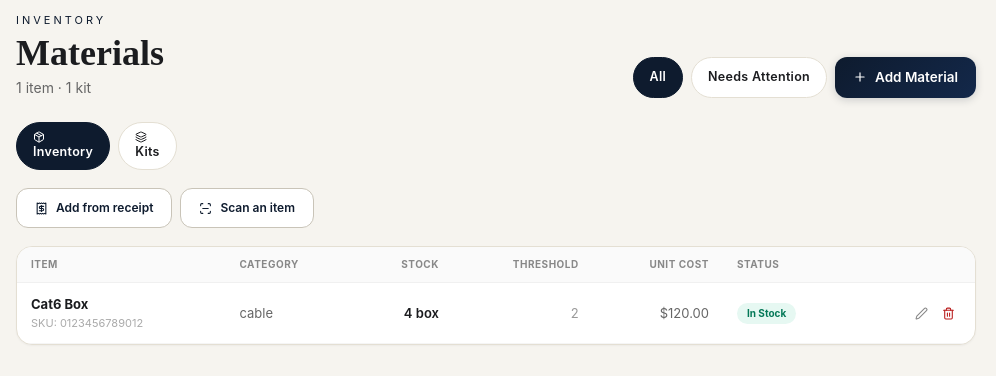
Test: Materials screen › switches to Kits and shows what is in one, priced
Click the button "Kits".
click(148, 146)  # box [118, 122, 177, 170]
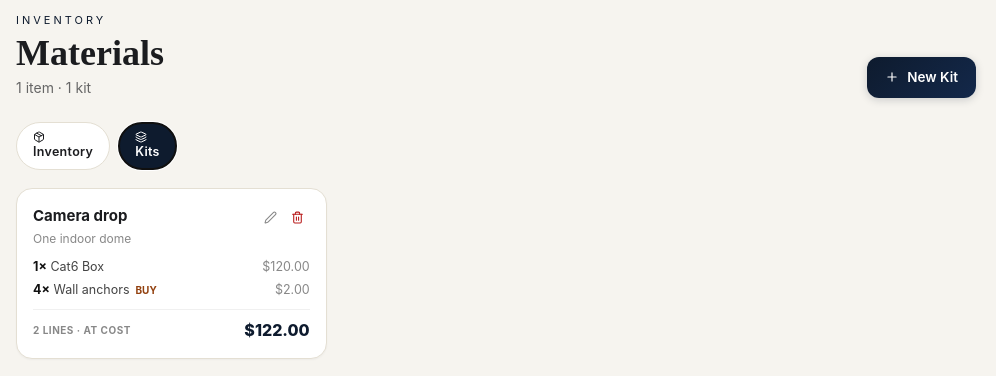
Expected: the text "Camera drop" is shown, [33, 205, 131, 228]
Expected: the text "Wall anchors" is shown, [54, 282, 130, 296]
Expected: the text "$122.00" is shown, [244, 318, 310, 342]
